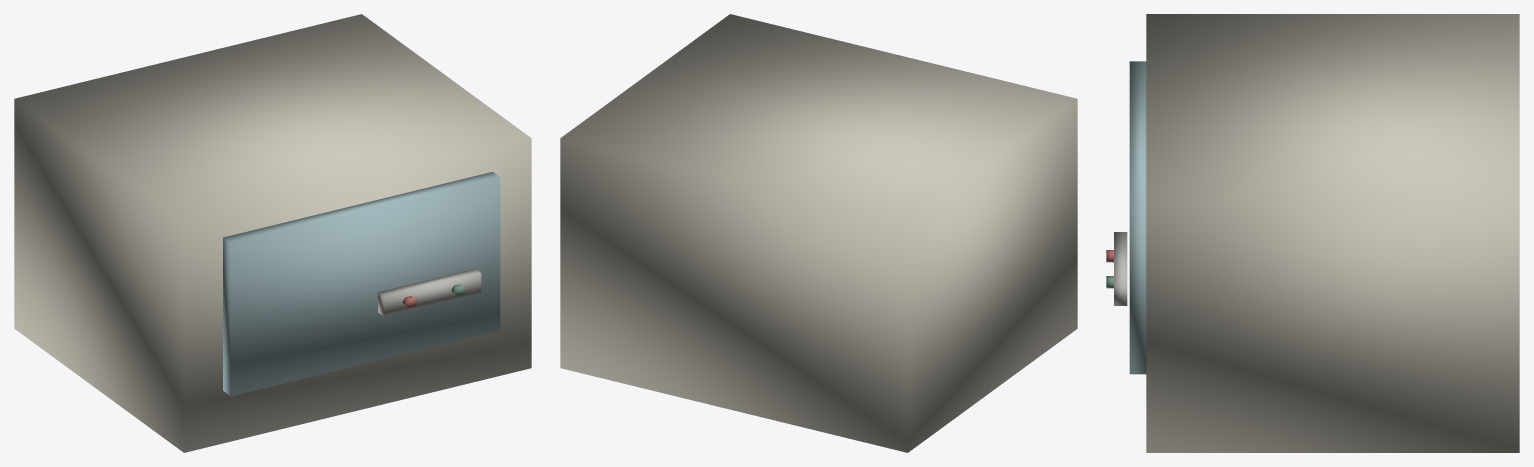
The model's file is crt_monitor__squat.glb.
The picture shows the model from 3 angles, left to right: view 1: azimuth 30°, elevation 25°; view 2: azimuth 150°, elevation 25°; view 3: azimuth 270°, elevation 25°; orthographic projection. The views are drawn at different scales.
Visible parts, largest first — view 1: world; view 2: world; view 3: world.
Boxes of the visible parts, x1,y1,x2,y2 form: world: (14,14,531,452); world: (560,14,1077,452); world: (1106,14,1519,452).
Bounding box in the file's own units: 0.638 × 0.4368 × 0.5978.
